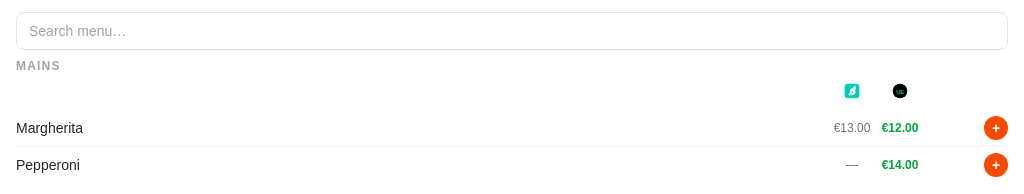
Test: MenuBrowser › filters items by search query
The width and height of the screenshot is (1024, 194).
Type "pepperoni" into the search field with placeholder "Search menu…" at (512, 31), box [16,12,1008,50]
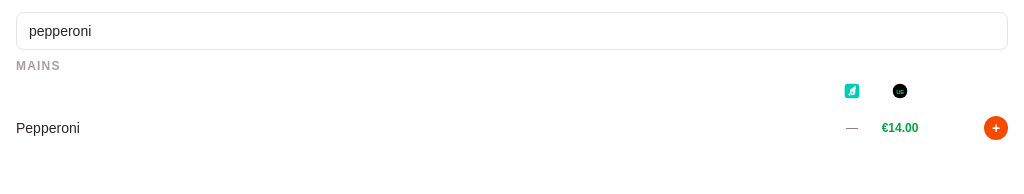
expect the button "Pepperoni" is shown: met, box [16,118,824,138]
expect the button "Margherita" is gone: met
